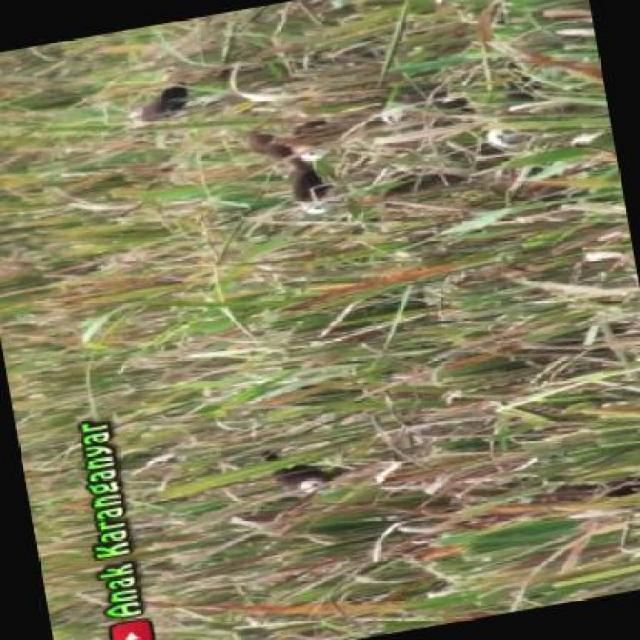Bird: (235, 458, 352, 504), (118, 75, 208, 127)
